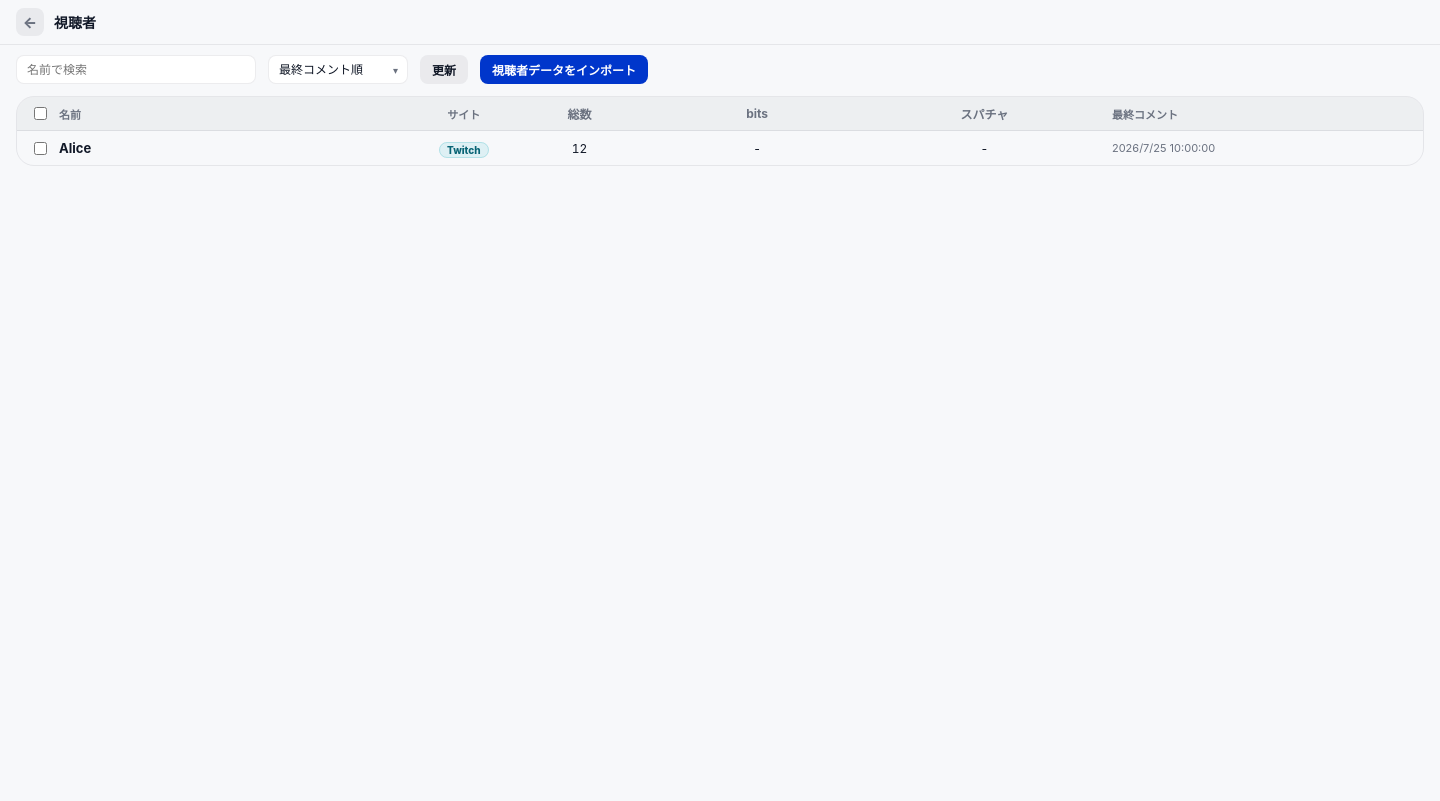
ViewersView 詳細・メモ › 行クリックで get_viewer を叩き、詳細（メモ欄）を表示する
Click the text "Alice" at (75, 148), box [59,140,91,156]
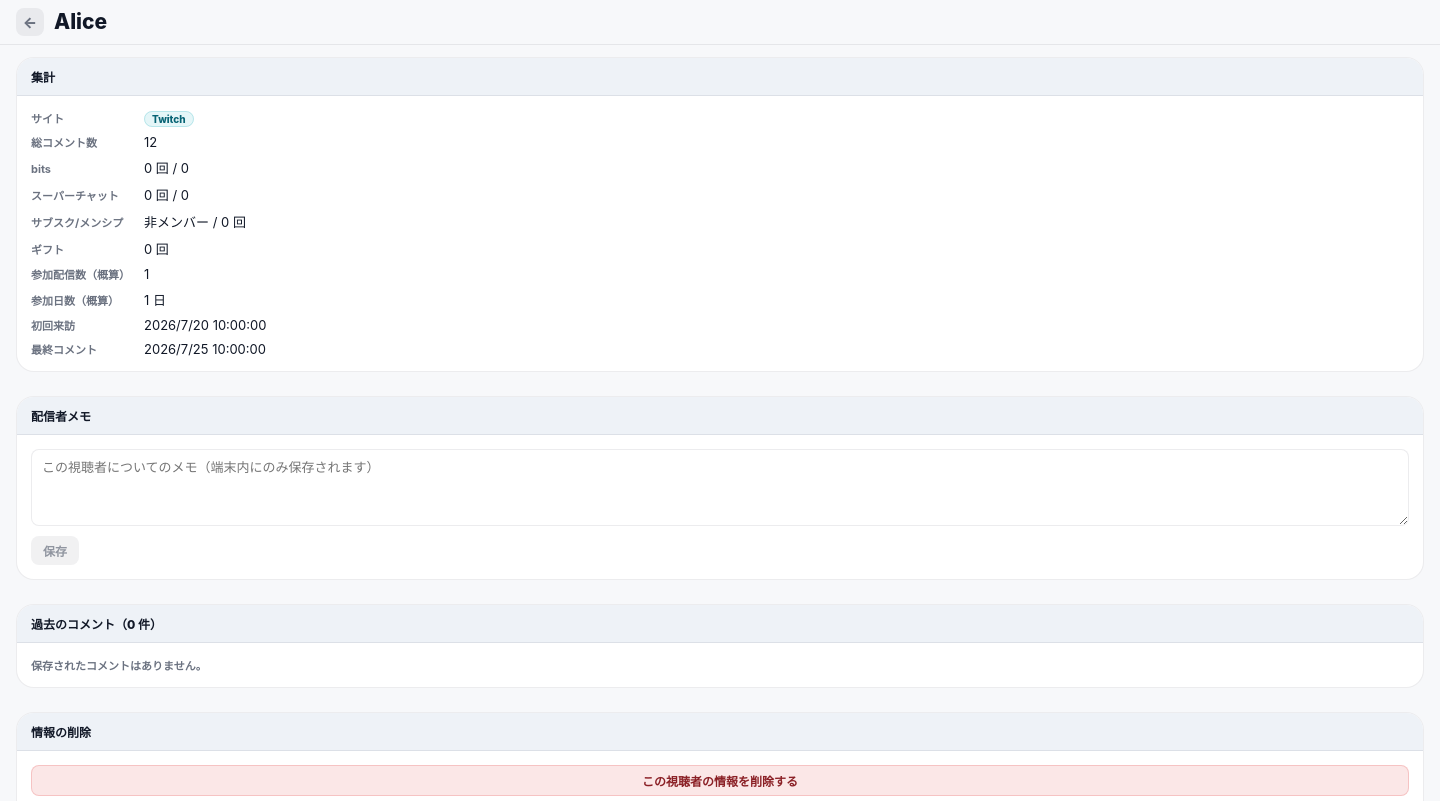
Check: the text "配信者メモ" is shown, box [17,397,1423,435]
